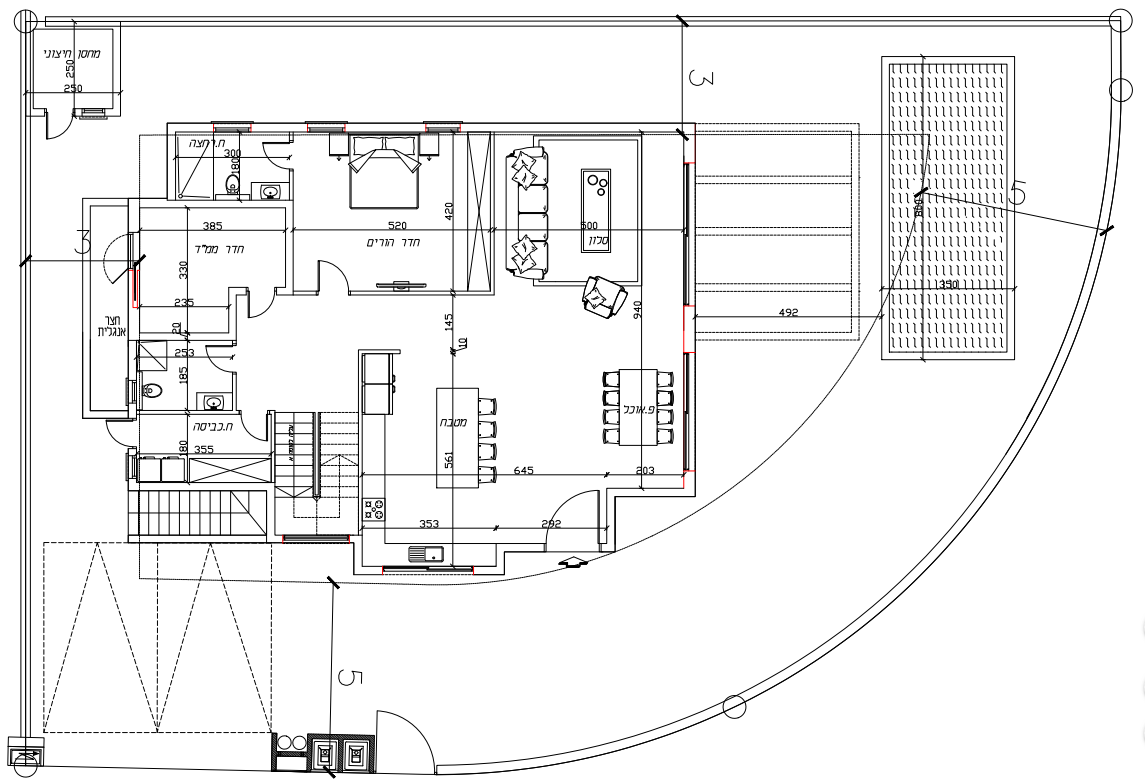door: (366, 701, 436, 760), (544, 485, 604, 520), (312, 255, 347, 288), (42, 119, 79, 150), (103, 418, 133, 450), (256, 140, 286, 169), (243, 298, 279, 322), (204, 343, 230, 375), (237, 418, 270, 443)
window: (678, 161, 702, 306), (679, 353, 706, 473), (380, 562, 474, 583), (280, 530, 351, 548), (211, 116, 252, 139), (306, 118, 347, 138), (425, 116, 461, 138)
